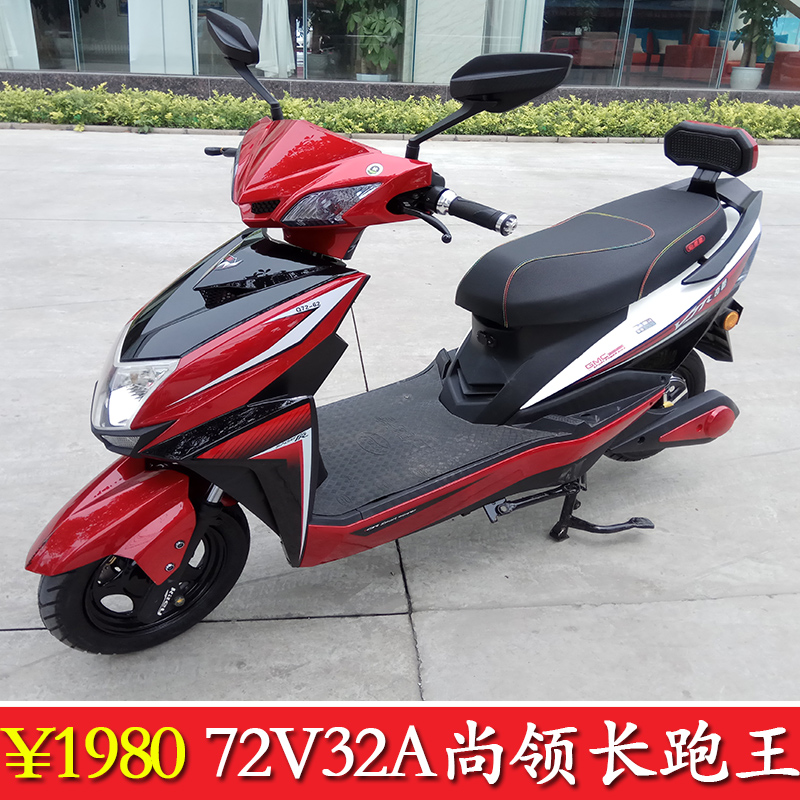电动车: (22, 5, 785, 672)
